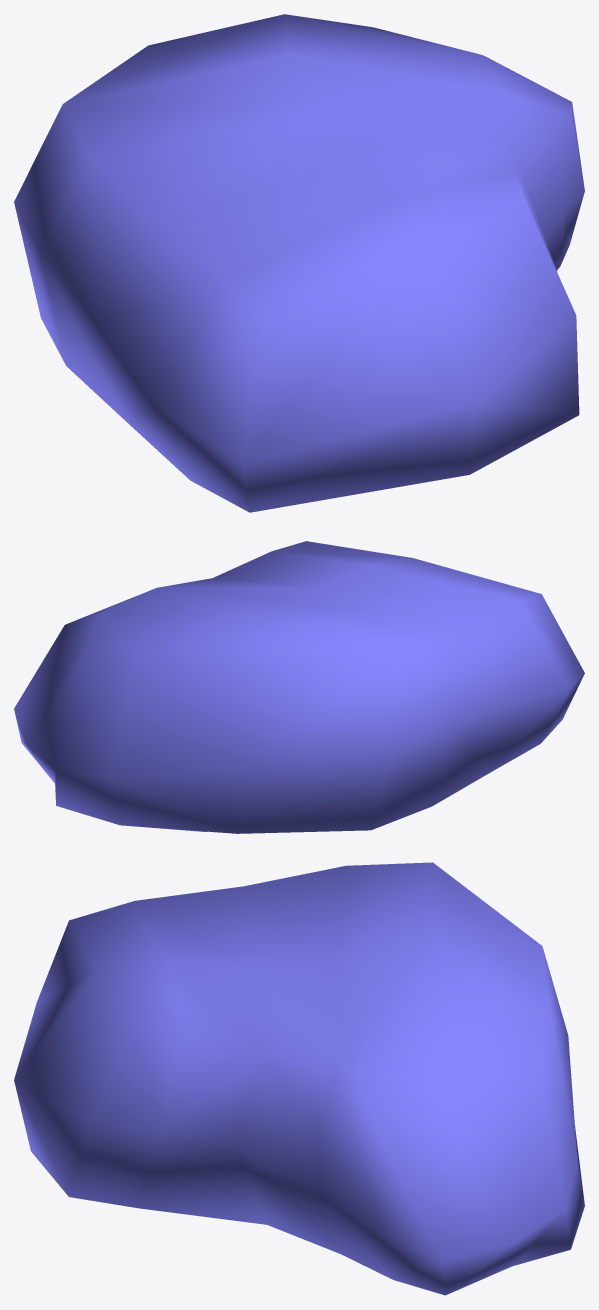
File: Rock04.fbx
3 views of the same model, one above another, from view 1: azimuth 30°, elevation 25°; view 2: azimuth 150°, elevation 25°; view 3: azimuth 270°, elevation 25° (orthographic). The views are drawn at different scales.
Visible parts, largest first — view 1: Low_Rock04; view 2: Low_Rock04; view 3: Low_Rock04.
Part boxes in pixels (x1,y1,x2,y2): Low_Rock04: (14, 14, 584, 512); Low_Rock04: (14, 541, 584, 833); Low_Rock04: (14, 862, 584, 1295).
Bounding box in the file's own units: 322 × 132 × 303.
